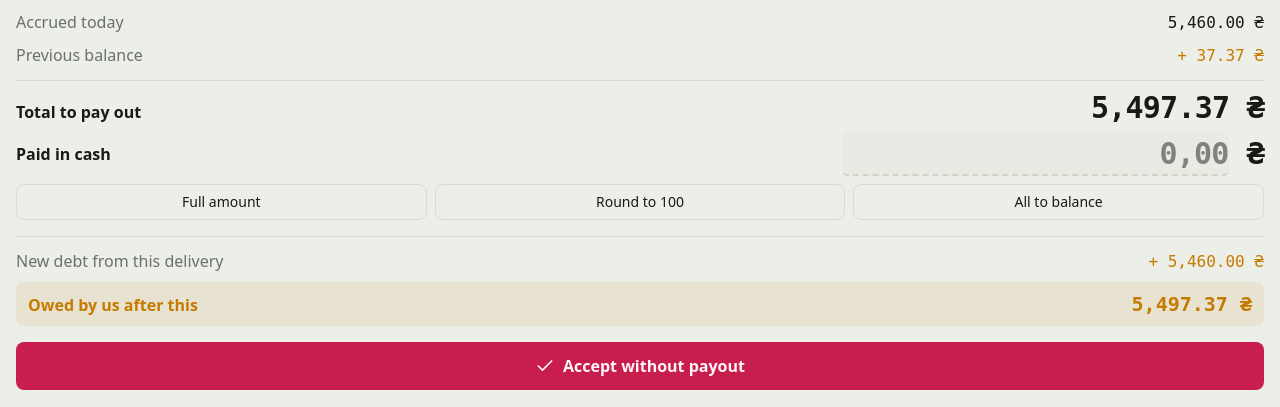
Test: TotalsSection — the chips › «Full amount» and «All to balance» set the paid value to the cap and to zero
This screenshot has width=1280, height=407.
Click the button "Full amount".
click(221, 202)  # box [16,184,427,220]
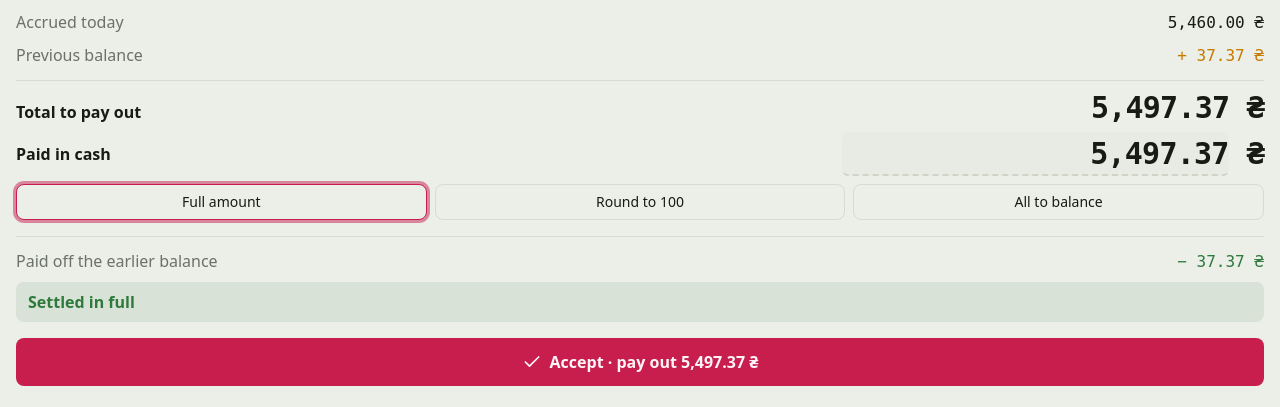
Now the field labelled "Paid in cash" holds "5,497.37", box [842,132,1229,176]
Click the button "Round to 100".
click(640, 202)  # box [435,184,845,220]
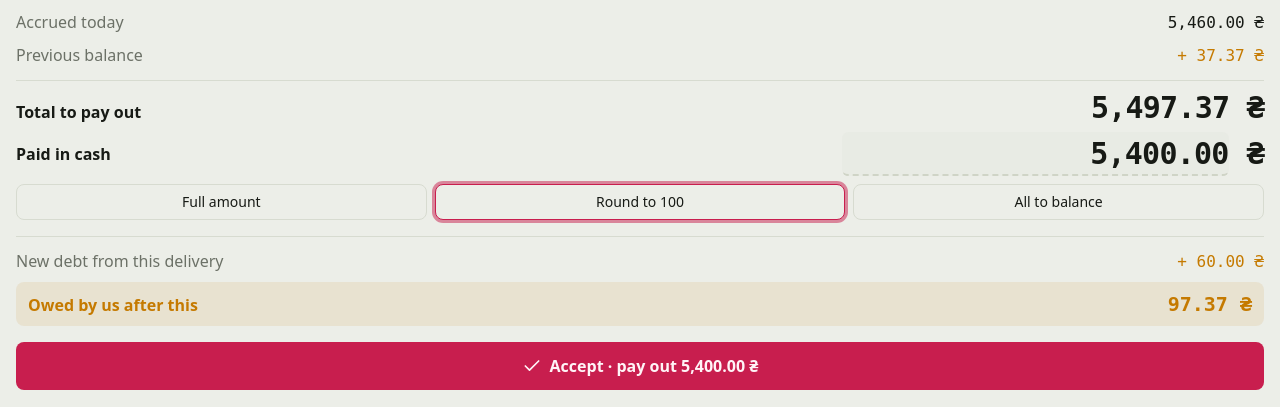
Now the field labelled "Paid in cash" holds "5,400.00", box [842,132,1229,176]
Click the button "All to balance".
click(1059, 202)  # box [853,184,1264,220]
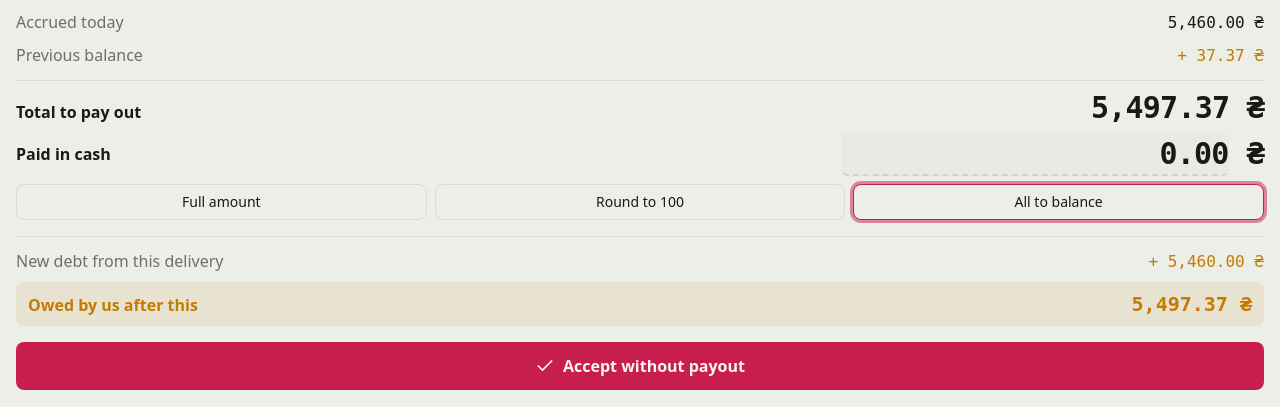
Now the field labelled "Paid in cash" holds "0.00", box [842,132,1229,176]
